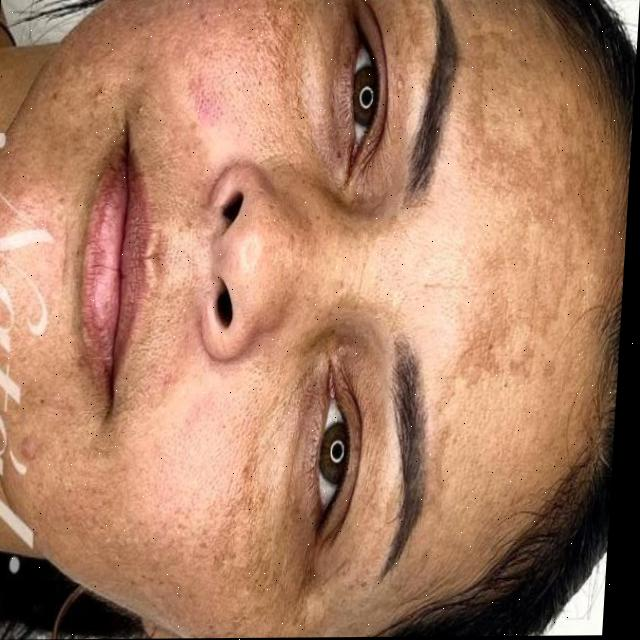Melasma: (448, 124, 577, 380), (208, 397, 296, 633), (258, 0, 334, 77)
